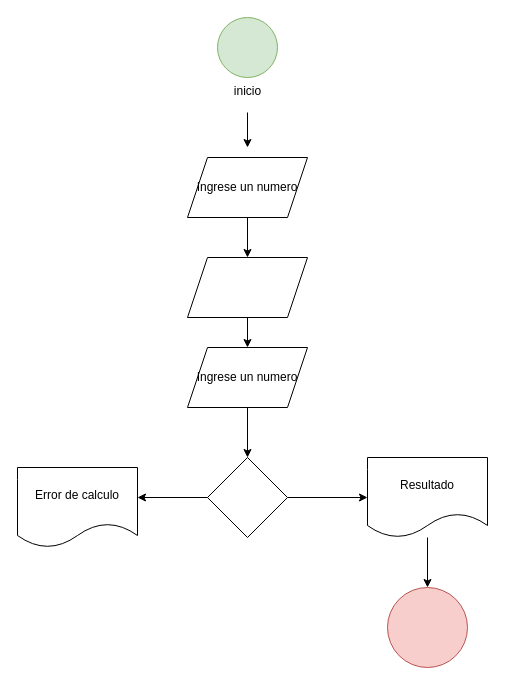
Image size: 505x685. Some labels were removed from this diagram. Here are the shapes that lost their labels. From the top down, the box of each, then its label:
(186, 256, 308, 318): Seleccione signo matematico
(206, 456, 288, 538): Calculando
(386, 586, 468, 668): fin
